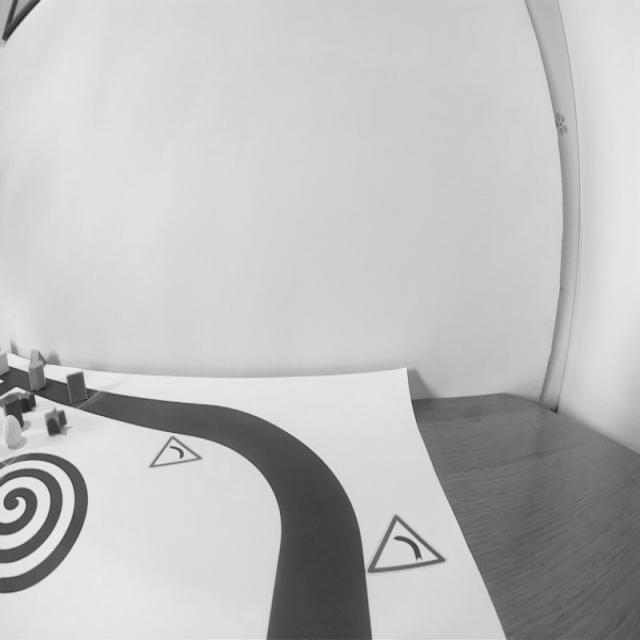laneLeft: (237, 450, 377, 640)
leftTurn: (346, 503, 452, 582)
nest: (1, 444, 94, 612)
star: (42, 404, 71, 442)
